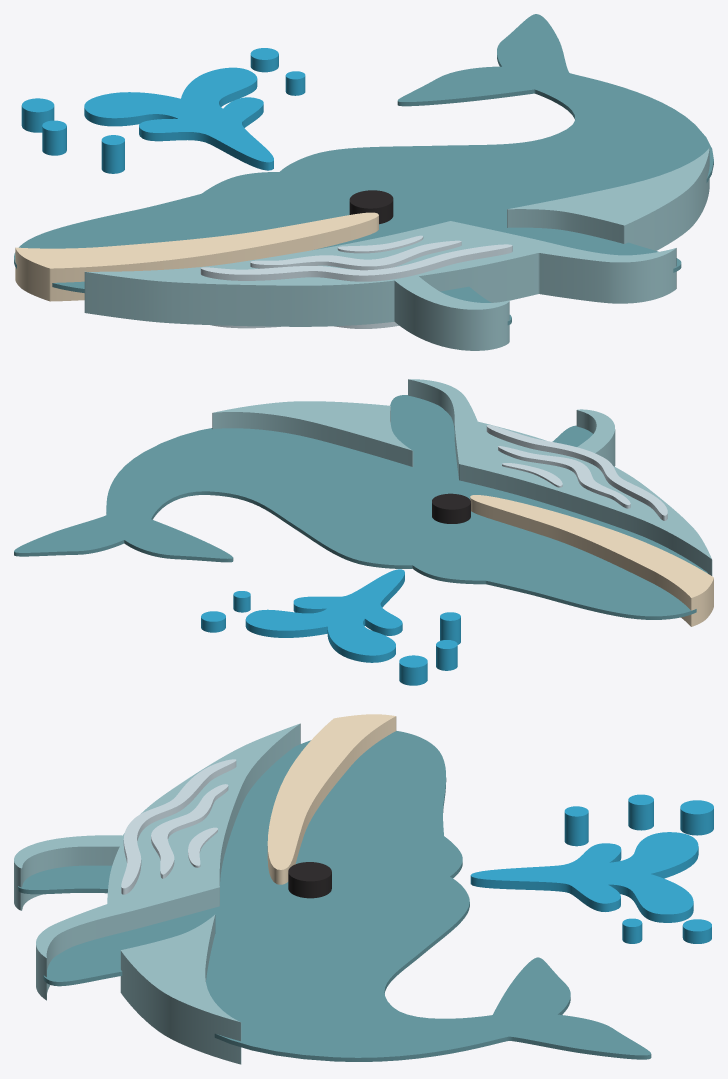
File: emoji_u1f433.glb
The picture shows the model from 3 angles, top to bottom: view 1: azimuth 30°, elevation 25°; view 2: azimuth 150°, elevation 25°; view 3: azimuth 270°, elevation 25°; orthographic projection. The views are drawn at different scales.
Visible parts, largest first — view 1: emoji_u1f433; view 2: emoji_u1f433; view 3: emoji_u1f433.
Boxes of the visible parts, x1,y1,x2,y2 form: emoji_u1f433: (14, 14, 713, 350); emoji_u1f433: (14, 379, 713, 685); emoji_u1f433: (14, 714, 713, 1064).
Bounding box in the file's own units: 0.0333 × 0.0026 × 0.03.
